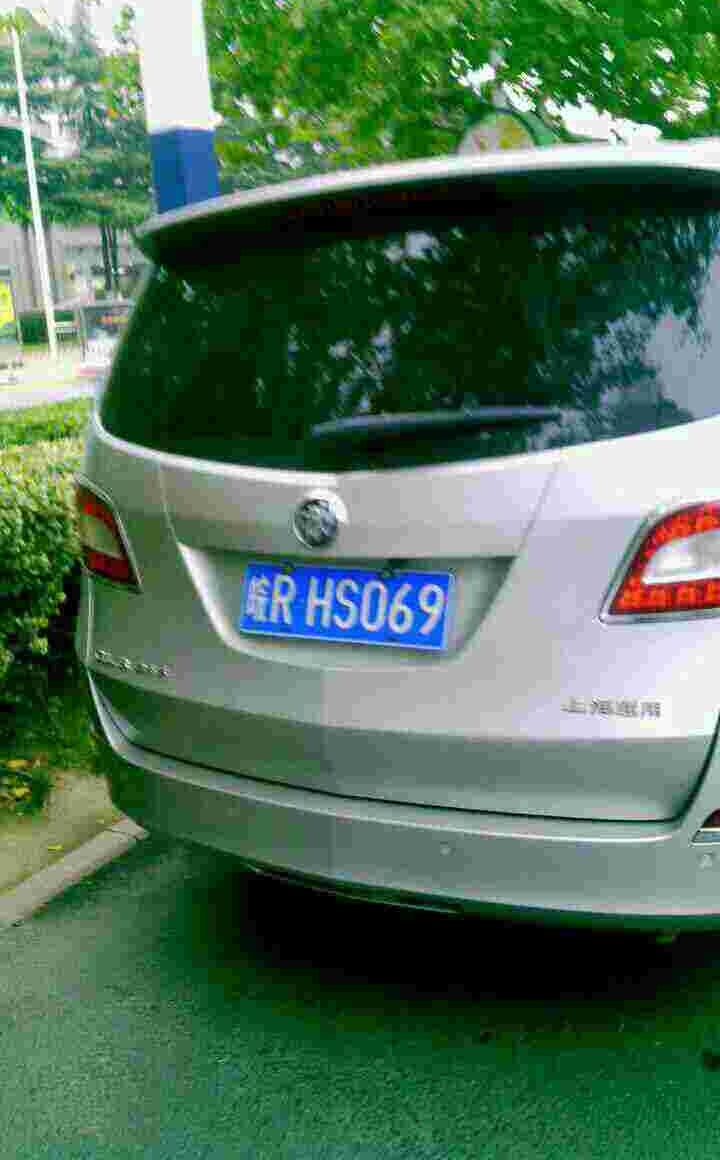license_plate: (238, 561, 456, 641)
